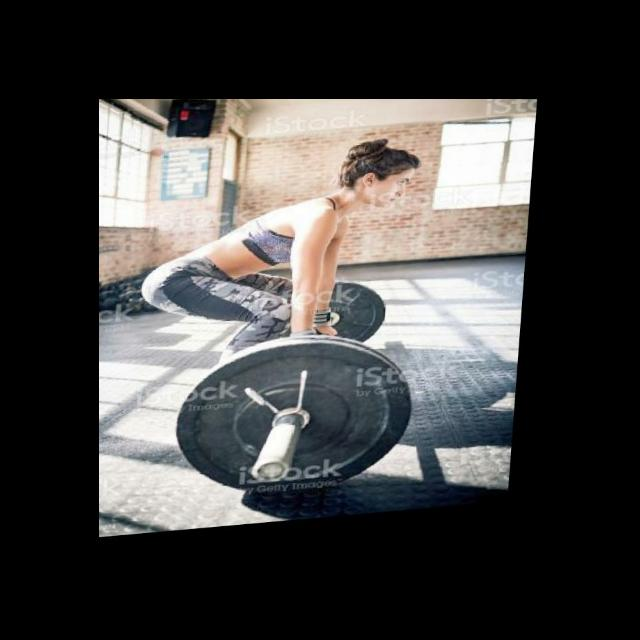barbell: (175, 336, 426, 513)
